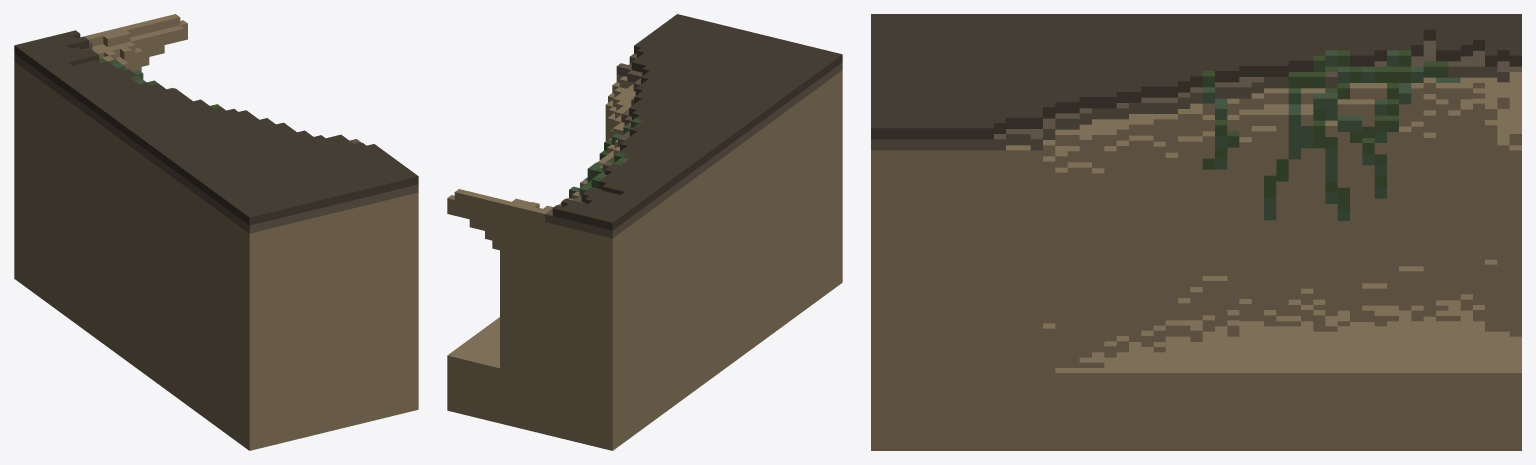
Rendered from Corridor2-0.obj.
3 views of the same model, side by side, from view 1: azimuth 30°, elevation 25°; view 2: azimuth 150°, elevation 25°; view 3: azimuth 270°, elevation 25° (orthographic). The views are drawn at different scales.
Size of the model in its own units: 2.2 by 2.9 by 5.3.
